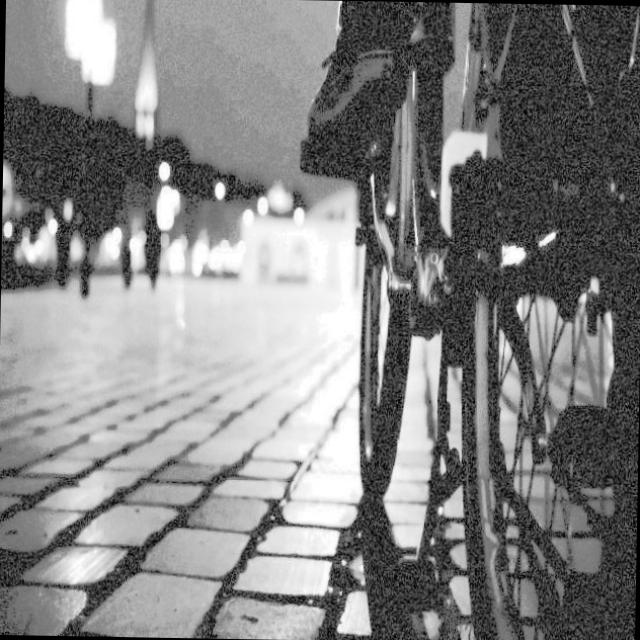Bicycle: (301, 7, 640, 640)
